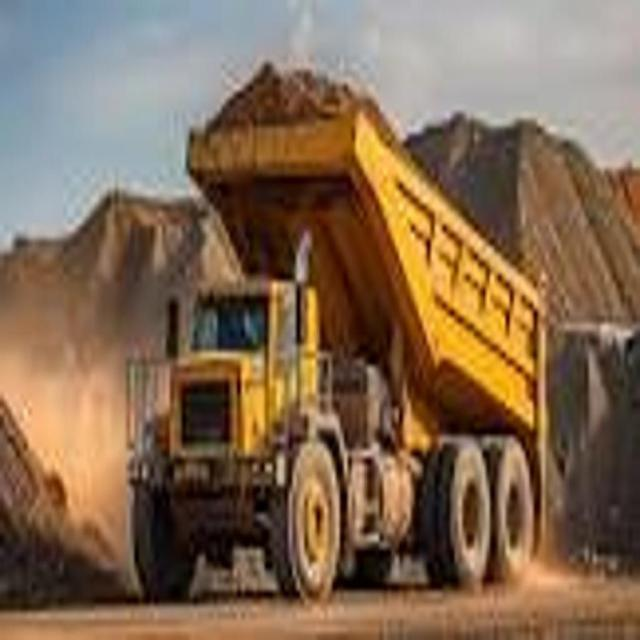dump_truck: (122, 52, 550, 607)
